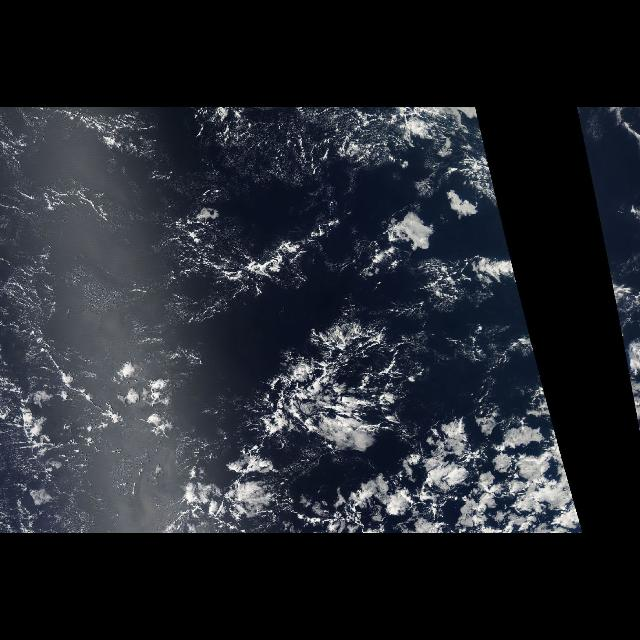Flower: (261, 322, 574, 534)
Sugar: (1, 108, 318, 526)
